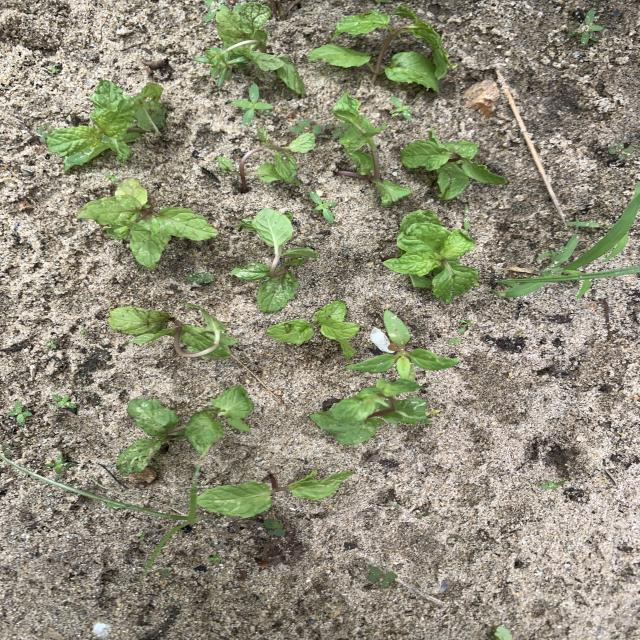crop: (308, 4, 455, 91), (78, 178, 215, 267), (117, 388, 253, 473), (45, 80, 166, 169), (333, 92, 411, 204), (348, 310, 458, 389), (233, 209, 318, 311), (385, 209, 479, 301), (208, 2, 303, 92), (311, 379, 431, 443), (401, 130, 506, 199), (197, 470, 351, 516), (109, 304, 236, 359), (217, 128, 317, 189), (267, 301, 349, 343)
weed: (6, 456, 199, 579), (499, 183, 639, 299), (233, 84, 271, 125), (570, 8, 603, 45), (311, 191, 335, 222), (45, 454, 74, 474), (607, 142, 633, 164), (367, 567, 395, 587), (7, 401, 31, 424), (290, 119, 323, 135), (204, 0, 227, 20), (392, 97, 411, 119), (52, 394, 75, 408), (264, 519, 283, 535), (186, 273, 213, 283), (541, 480, 565, 490), (494, 626, 511, 639), (1, 443, 19, 454), (329, 124, 345, 136), (459, 320, 471, 331), (105, 175, 119, 183), (159, 569, 170, 577), (209, 555, 219, 562), (50, 67, 59, 73), (80, 329, 86, 334)
